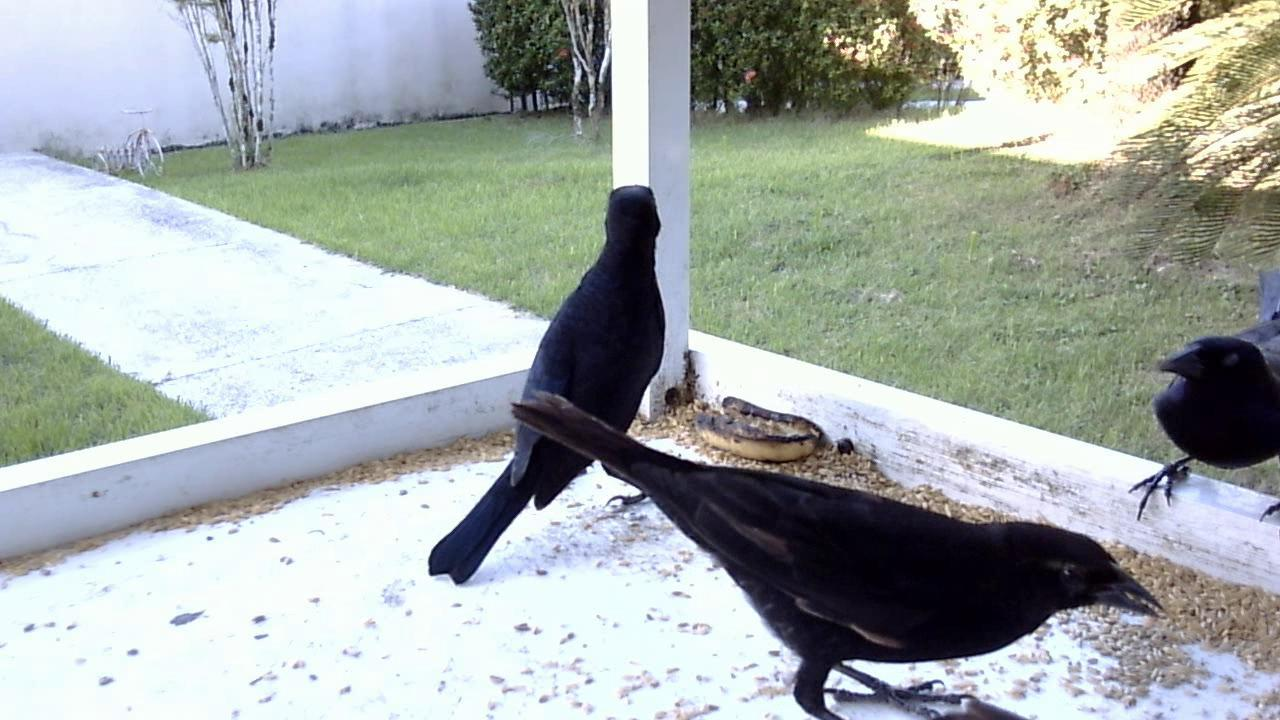chupim: (509, 397, 1169, 720), (433, 178, 676, 586), (1120, 267, 1280, 536)
